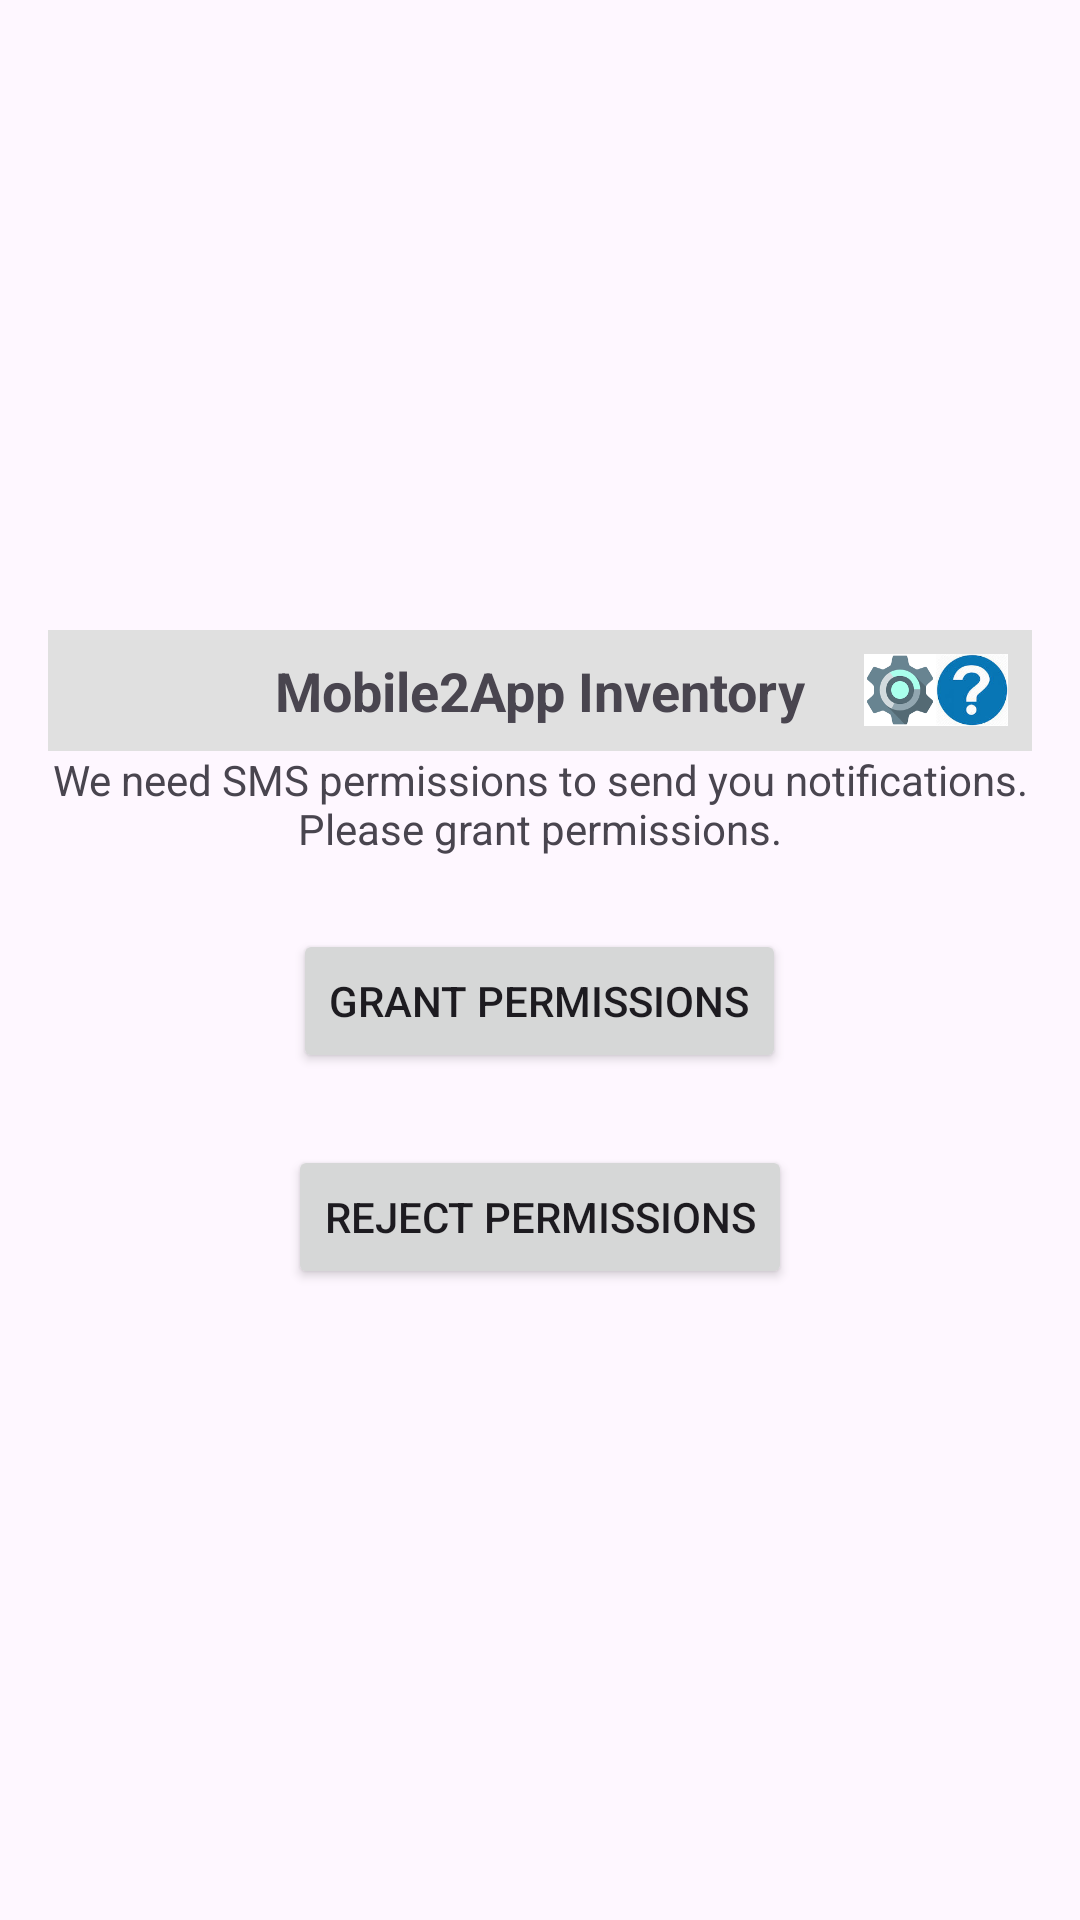

Where to tap for icons on this 1080*1920 app screen, as point (x, y):
help: point (972, 690)
settings: point (900, 690)
